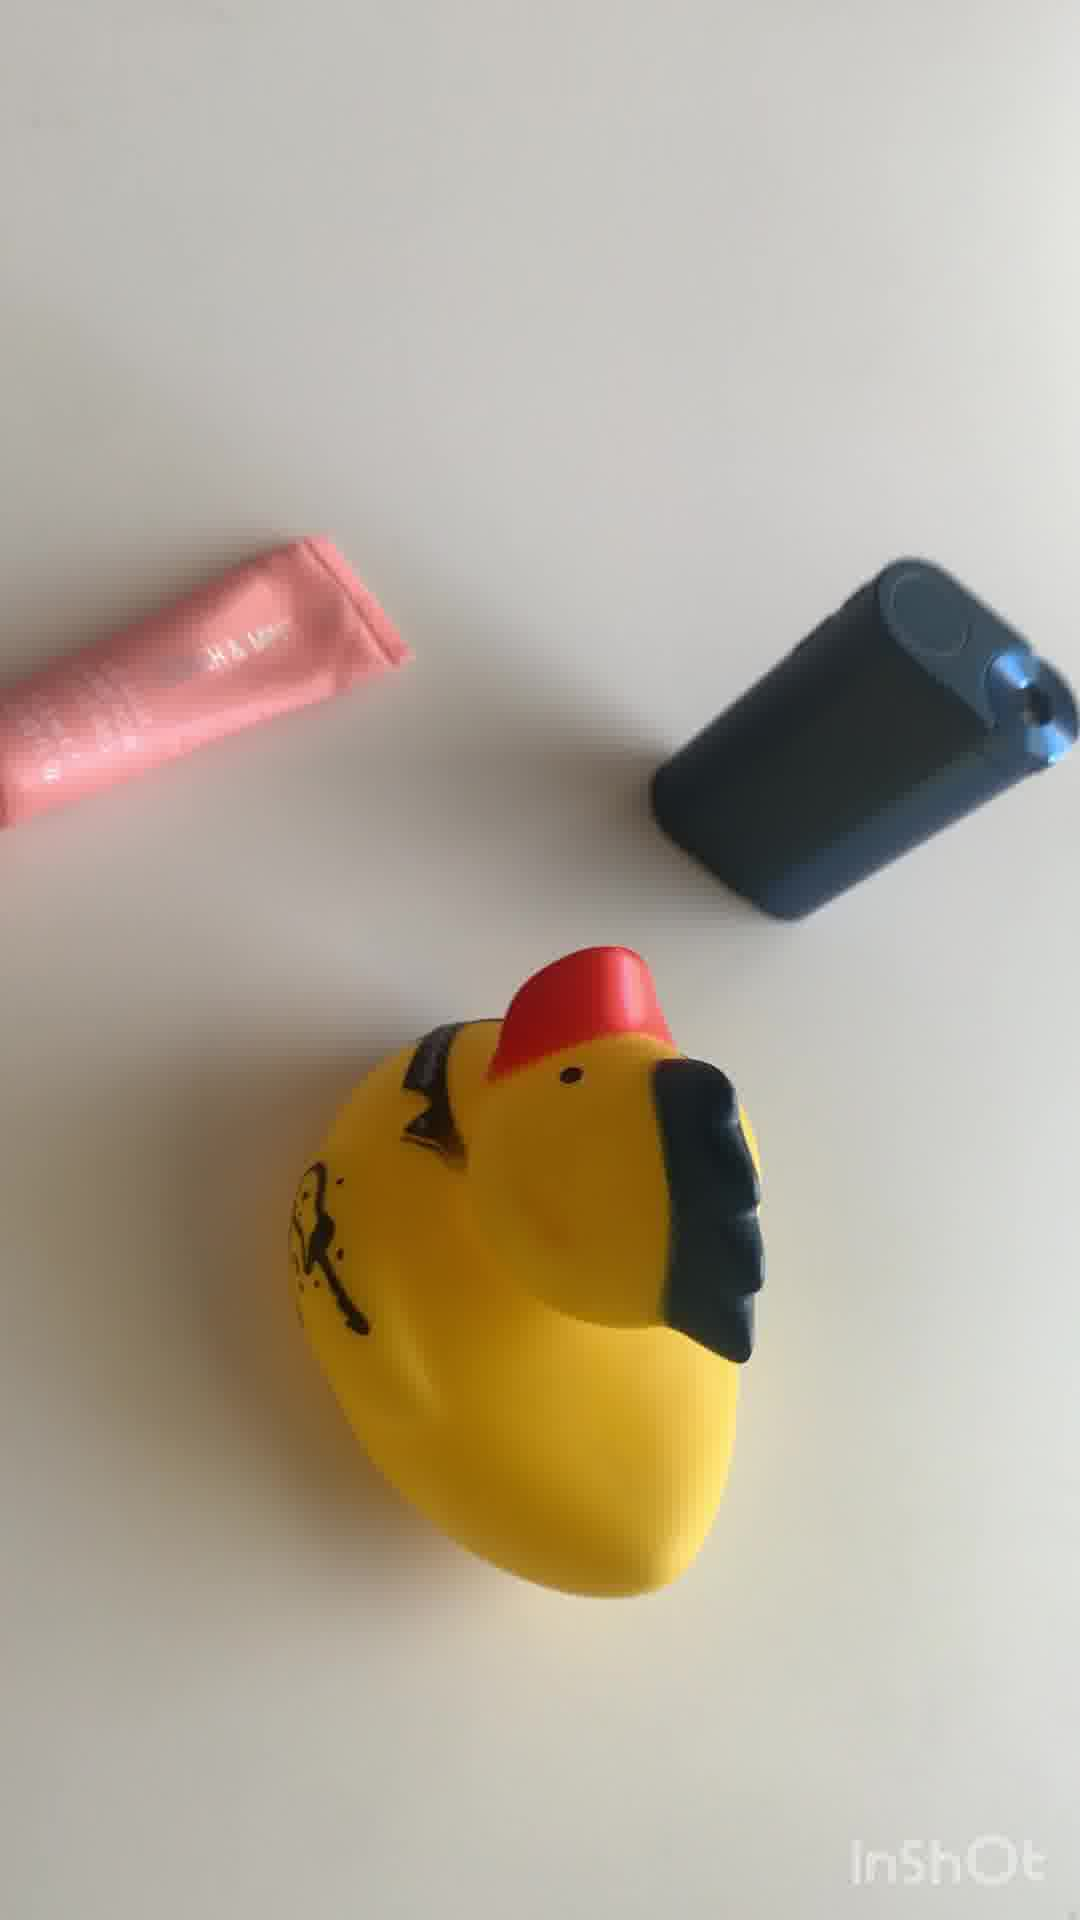duck: (282, 939, 771, 1605)
glo: (646, 556, 1080, 926)
lip balm: (1, 534, 423, 823)
